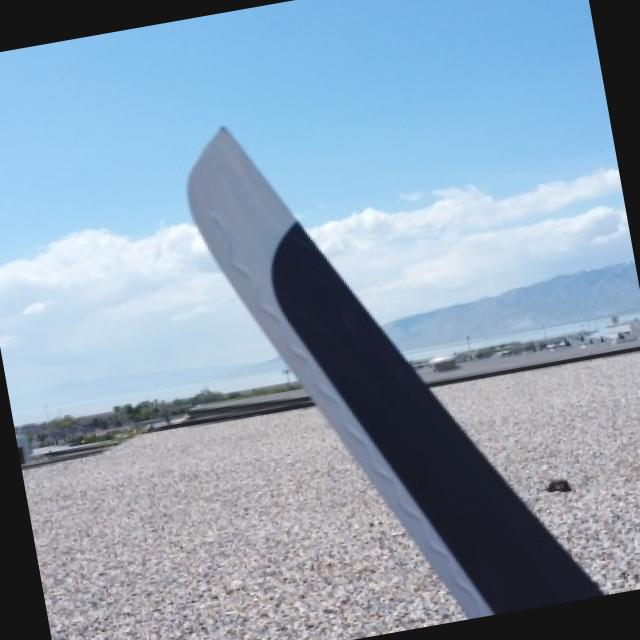healthy: (188, 129, 600, 613)
